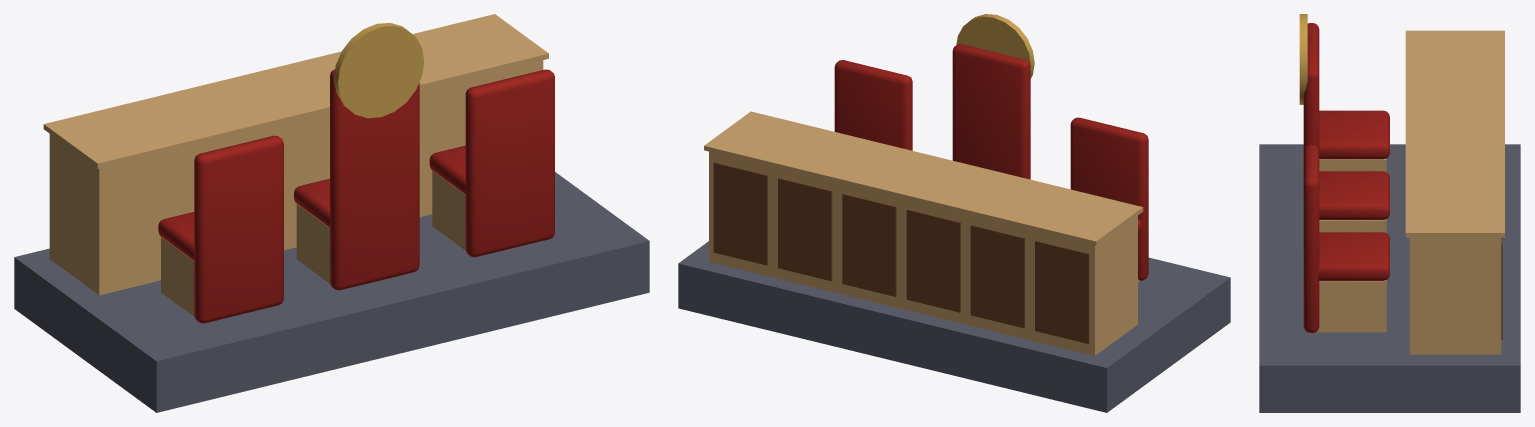
Rendered from office.council.dais.glb.
3 views of the same model, side by side, from view 1: azimuth 30°, elevation 25°; view 2: azimuth 150°, elevation 25°; view 3: azimuth 270°, elevation 25° (orthographic). The views are drawn at different scales.
Parts seen in each view (by area): view 1: main__carpet, main__glulam, main__fabric_red, main__brass; view 2: main__glulam, main__carpet, main__hardwood, main__fabric_red, main__brass; view 3: main__glulam, main__carpet, main__fabric_red, main__brass.
Part boxes in pixels (box(x1,y1,x2,y2)): main__carpet: box(14, 172, 649, 412); main__glulam: box(43, 14, 548, 316); main__fabric_red: box(158, 69, 554, 323); main__brass: box(333, 23, 424, 118); main__glulam: box(704, 111, 1143, 355); main__carpet: box(678, 241, 1230, 412); main__hardwood: box(713, 162, 1089, 343); main__fabric_red: box(834, 44, 1148, 280); main__brass: box(956, 14, 1034, 78); main__glulam: box(1316, 30, 1504, 354); main__carpet: box(1259, 144, 1520, 412); main__fabric_red: box(1303, 23, 1389, 332); main__brass: box(1299, 14, 1307, 104).
Size of the model in its own units: 4 by 2.4 by 2.
